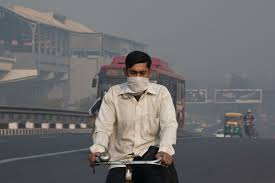mask: (127, 60, 151, 96)
